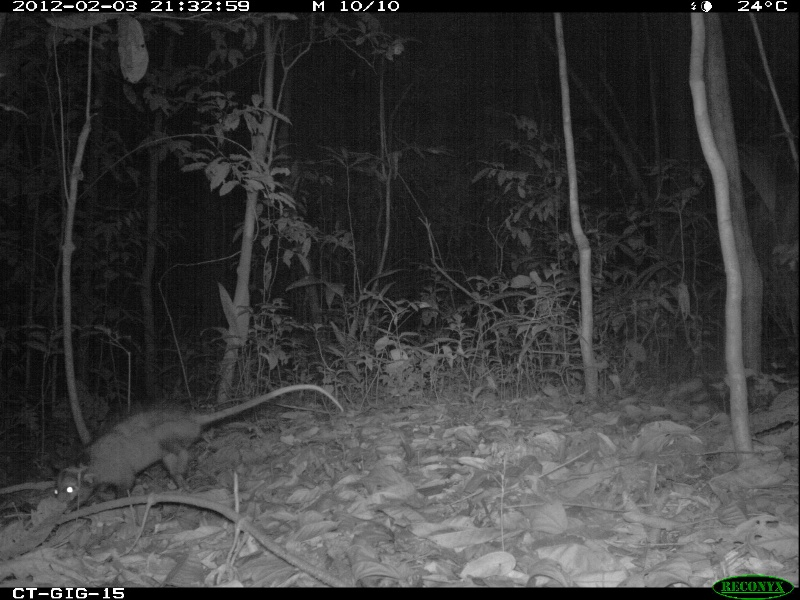opossum: (51, 368, 347, 521)
